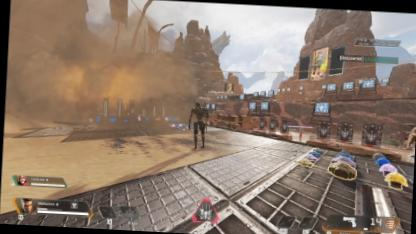Target: (188, 100, 206, 149)
